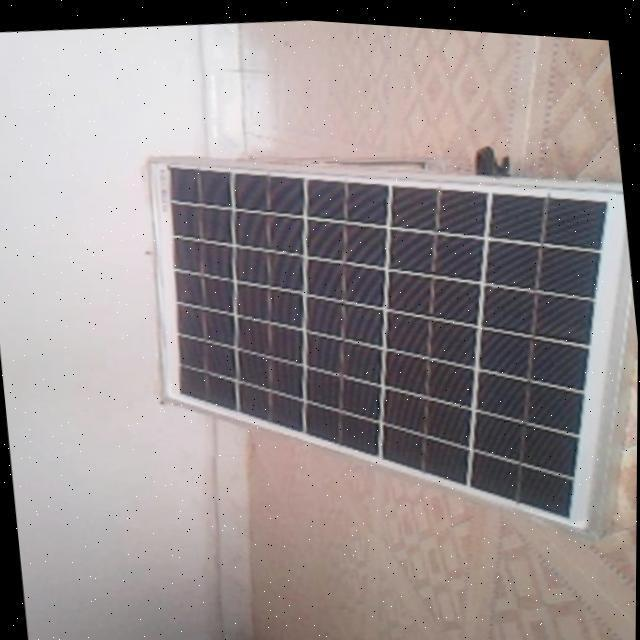Normal Solar Panel: (136, 106, 640, 564)
